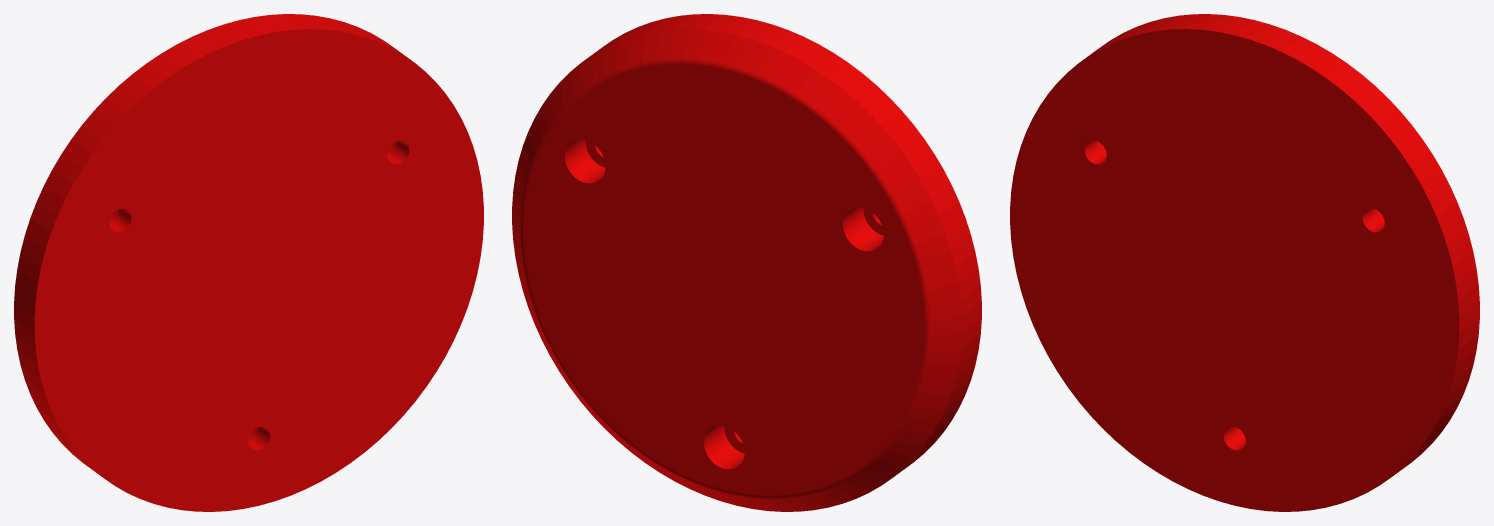
Rendered from Tapa2M1.dae.
3 views of the same model, side by side, from view 1: azimuth 30°, elevation 25°; view 2: azimuth 150°, elevation 25°; view 3: azimuth 330°, elevation 25° (orthographic).
Visible parts, largest first — view 1: Tapa2M1L; view 2: Tapa2M1L; view 3: Tapa2M1L.
Boxes of the visible parts, left/top/right/bottom form: Tapa2M1L: left=14, top=14, right=483, bottom=511; Tapa2M1L: left=512, top=14, right=981, bottom=511; Tapa2M1L: left=1010, top=14, right=1479, bottom=511.
Size of the model in its own units: 62.96 by 8 by 63.
